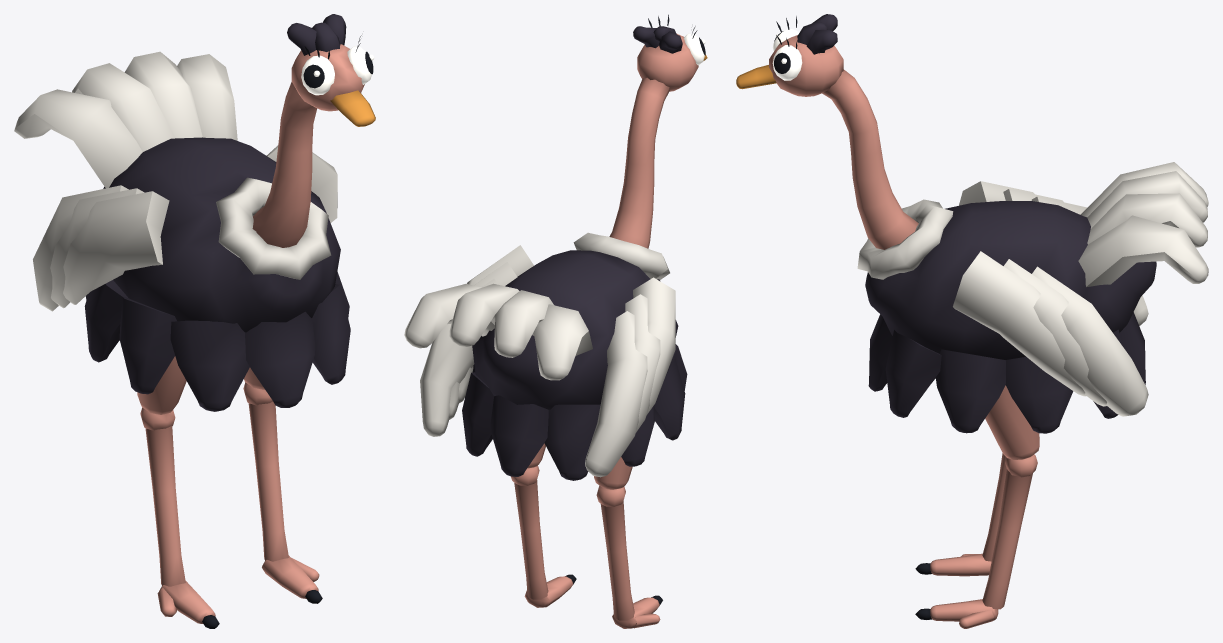
Rendered from ostrich.glb.
3 views of the same model, side by side, from view 1: azimuth 30°, elevation 25°; view 2: azimuth 150°, elevation 25°; view 3: azimuth 270°, elevation 25° (orthographic). The views are drawn at different scales.
Parts seen in each view (by area): view 1: Ostrich body plumage, Ostrich body plumes, Ostrich body skin, Ostrich leg 0 skin, Ostrich leg 1 skin, Ostrich body eye white, Ostrich body beak, Ostrich body pupil; view 2: Ostrich body plumes, Ostrich body plumage, Ostrich body skin, Ostrich leg 0 skin, Ostrich leg 1 skin; view 3: Ostrich body plumage, Ostrich body plumes, Ostrich body skin, Ostrich leg 1 skin, Ostrich leg 0 skin, Ostrich body eye white, Ostrich body beak.
Boxes of the visible parts, x1=… form: Ostrich body plumage: x1=84, y1=14, x2=350, y2=411; Ostrich body plumes: x1=14, y1=51, x2=337, y2=311; Ostrich body skin: x1=252, y1=44, x2=364, y2=247; Ostrich leg 0 skin: x1=137, y1=356, x2=215, y2=623; Ostrich leg 1 skin: x1=243, y1=367, x2=319, y2=598; Ostrich body eye white: x1=301, y1=46, x2=374, y2=95; Ostrich body beak: x1=330, y1=90, x2=375, y2=126; Ostrich body pupil: x1=303, y1=51, x2=373, y2=88; Ostrich body plumes: x1=404, y1=232, x2=675, y2=477; Ostrich body plumage: x1=462, y1=26, x2=687, y2=480; Ostrich body skin: x1=609, y1=33, x2=698, y2=248; Ostrich leg 0 skin: x1=594, y1=457, x2=660, y2=628; Ostrich leg 1 skin: x1=511, y1=443, x2=573, y2=607; Ostrich body plumage: x1=797, y1=14, x2=1156, y2=433; Ostrich body plumes: x1=857, y1=162, x2=1208, y2=416; Ostrich body skin: x1=769, y1=35, x2=918, y2=249; Ostrich leg 1 skin: x1=930, y1=385, x2=1039, y2=628; Ostrich leg 0 skin: x1=930, y1=453, x2=1006, y2=576; Ostrich body eye white: x1=772, y1=29, x2=802, y2=80; Ostrich body beak: x1=736, y1=65, x2=776, y2=89.
Bounding box in the file's own units: 0.9054 × 2.24 × 1.67.
